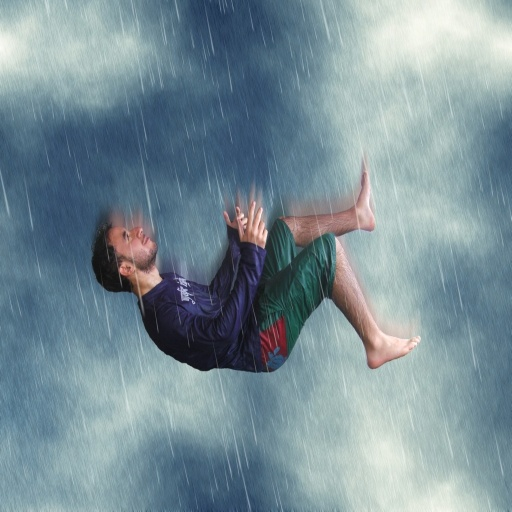hand: (230, 199, 271, 252), (222, 204, 247, 234)
